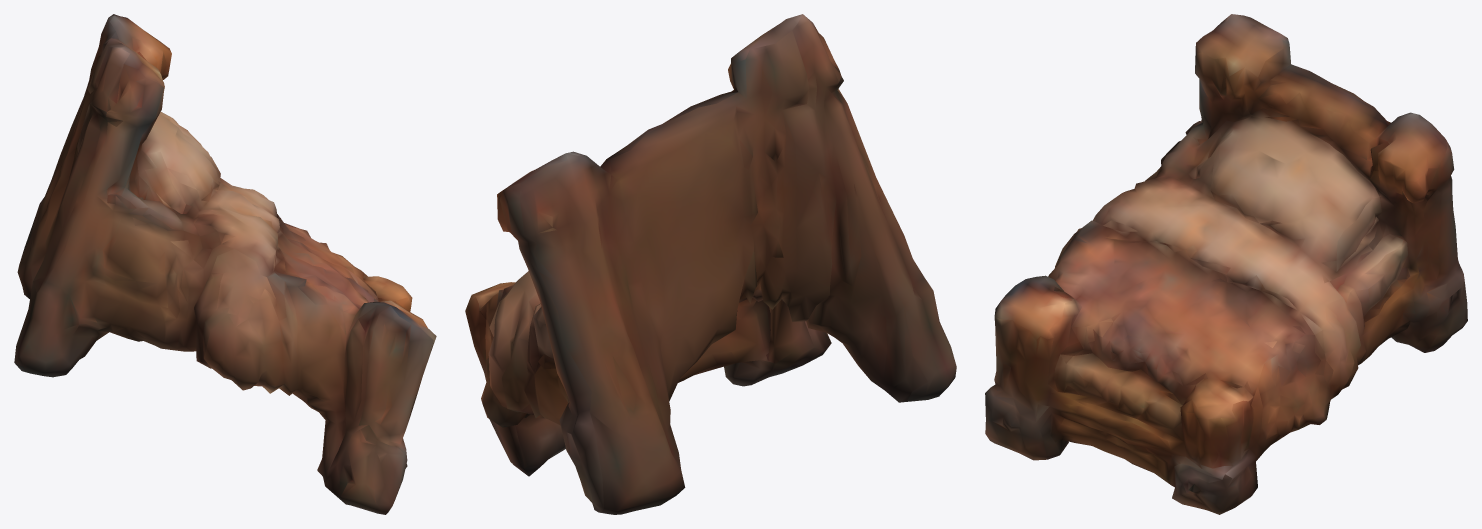
The model's file is bed.glb.
3 renders of one model, left to right at view 1: azimuth 30°, elevation 25°; view 2: azimuth 150°, elevation 25°; view 3: azimuth 270°, elevation 25°, orthographic. The views are drawn at different scales.
Visible parts, largest first — view 1: model; view 2: model; view 3: model.
Boxes of the visible parts, x1=… form: model: x1=14, y1=14, x2=436, y2=514; model: x1=465, y1=14, x2=956, y2=514; model: x1=985, y1=14, x2=1467, y2=514.
Size of the model in its own units: 1.38 by 1.44 by 1.6.
Materials: 1 (1 with a texture image).
